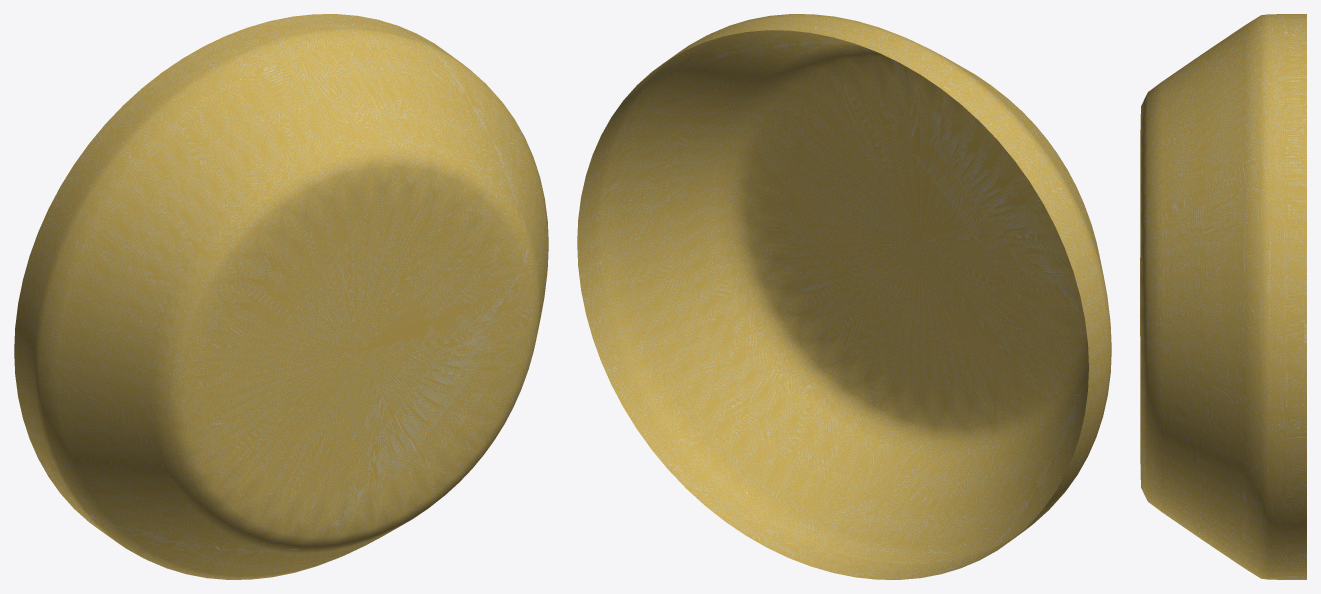
The model's file is original-112.obj.
3 renders of one model, left to right at view 1: azimuth 30°, elevation 25°; view 2: azimuth 150°, elevation 25°; view 3: azimuth 270°, elevation 25°, orthographic. The views are drawn at different scales.
Visible parts, largest first — view 1: mesh100/mesh100-geometry#mesh100-geometry; view 2: mesh100/mesh100-geometry#mesh100-geometry; view 3: mesh100/mesh100-geometry#mesh100-geometry.
Part boxes in pixels (x1,y1,x2,y2): mesh100/mesh100-geometry#mesh100-geometry: (14, 14, 548, 579); mesh100/mesh100-geometry#mesh100-geometry: (577, 14, 1111, 579); mesh100/mesh100-geometry#mesh100-geometry: (1140, 14, 1306, 579).
Bounding box in the file's own units: 0.1267 × 0.1267 × 0.0373.
